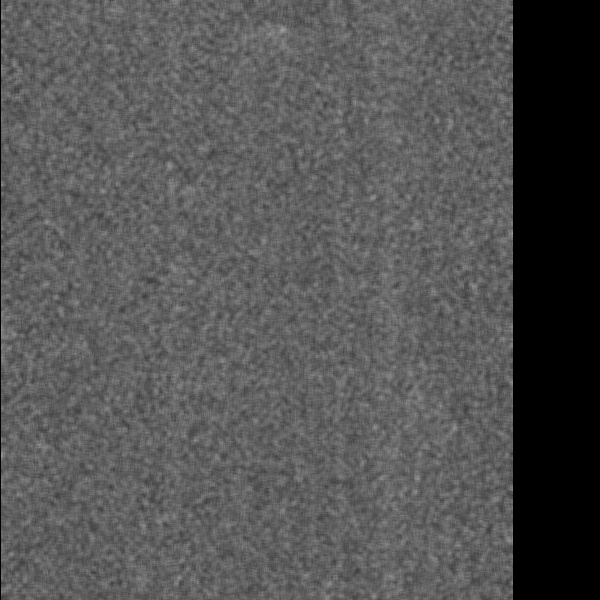spark: (50, 563, 74, 600)
